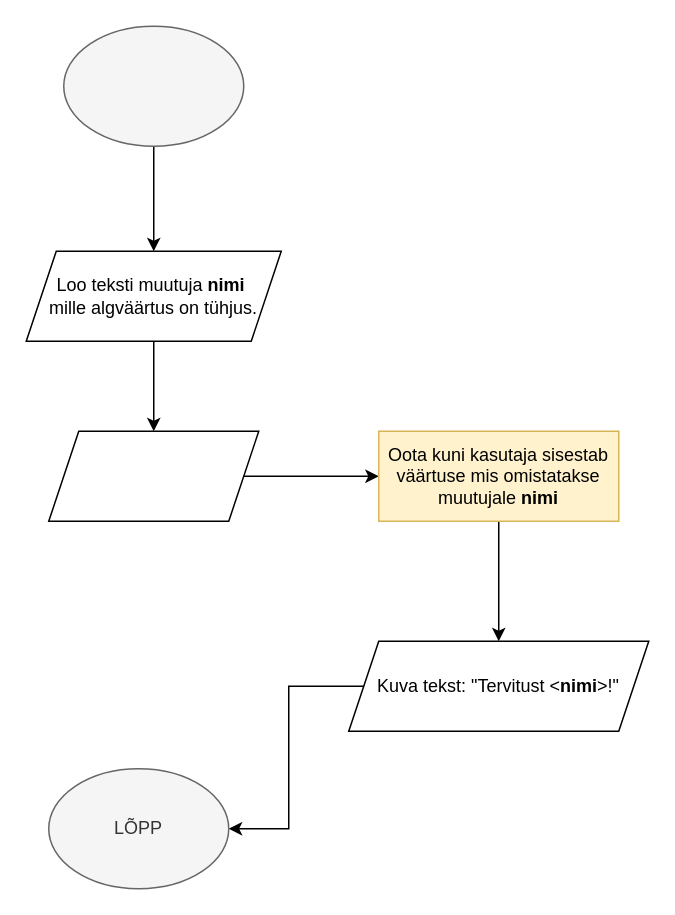
This 675x915 diagram has some shape labels left out. Each missing label, with the centre of its shape:
ALGUS: [153,85]
Kuva tekst: "Palun sisesta oma nimi": [153,475]
